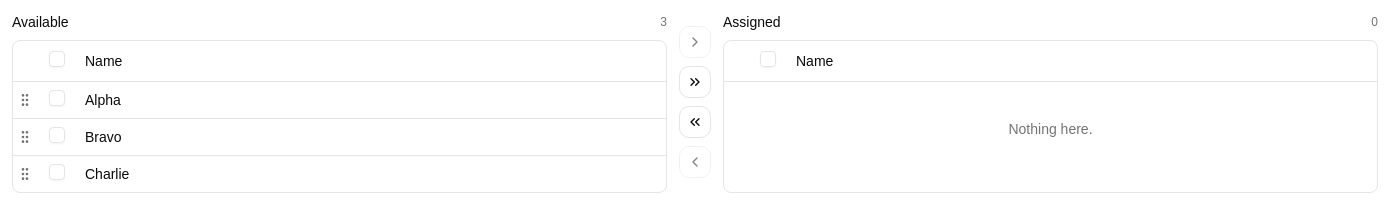
Scenario: TransferTable › moves only the selected row right
The image size is (1390, 210).
// Select "Bravo" (only present on the available side), move selected.
Click the checkbox named "Select row" next to "Bravo": (57, 134) [49,126,65,142]
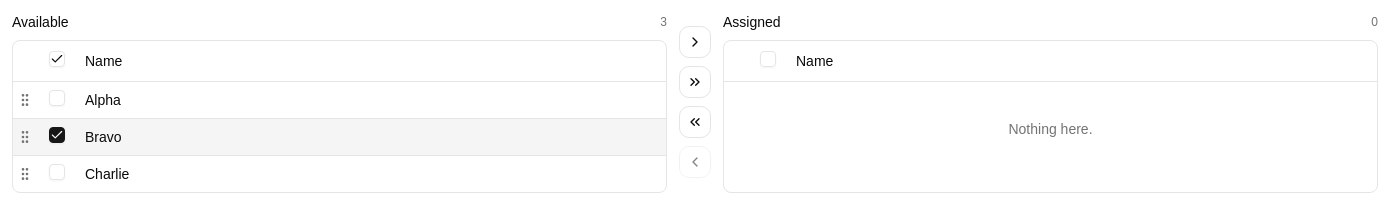
Click the button named "Move selected": (695, 42) [679,26,711,58]
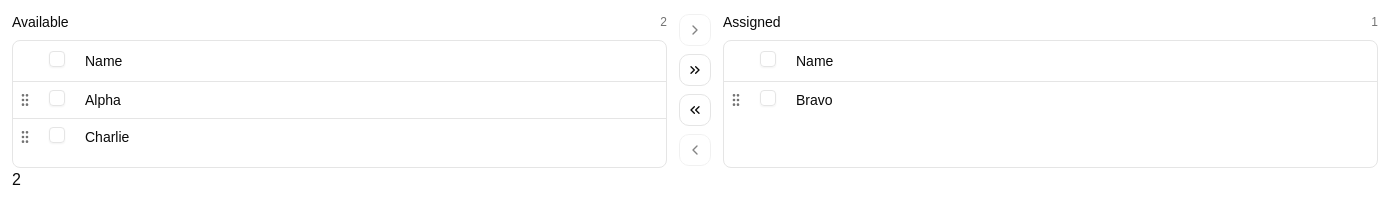
Now the text with test id "assigned" reads "2", box [12,171,21,188]
